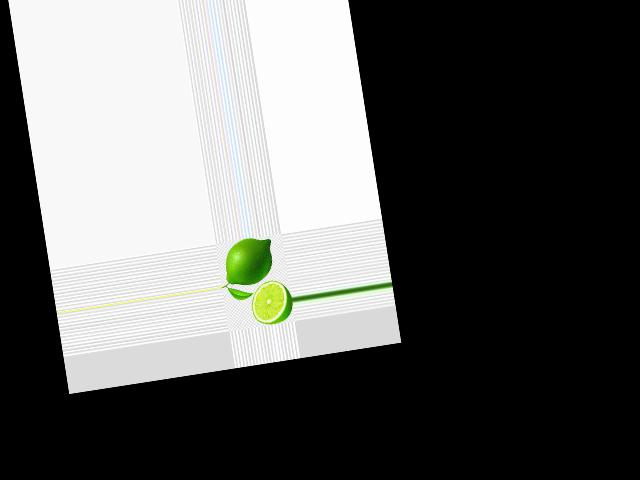lemon: (220, 235, 279, 295)
